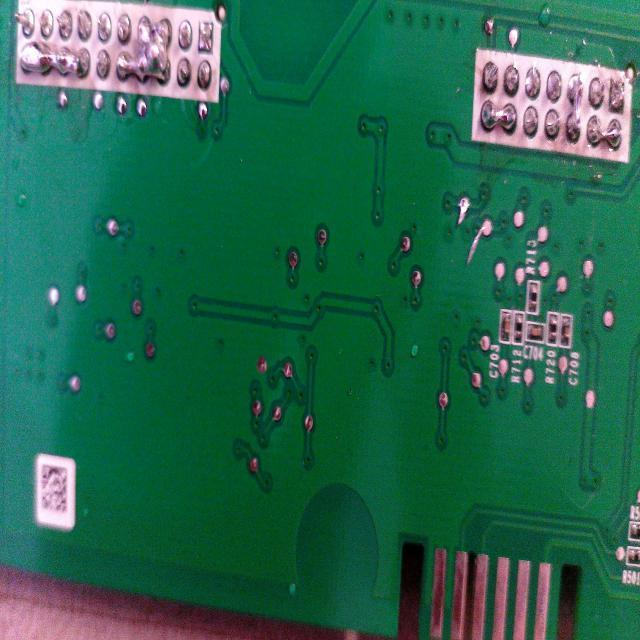Soldering shorted: (116, 13, 174, 89), (19, 36, 92, 80), (480, 98, 520, 144), (590, 110, 624, 152), (565, 69, 582, 145)
